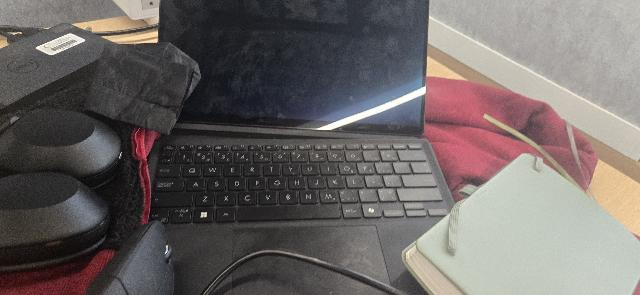Keyboard: (150, 141, 448, 224)
